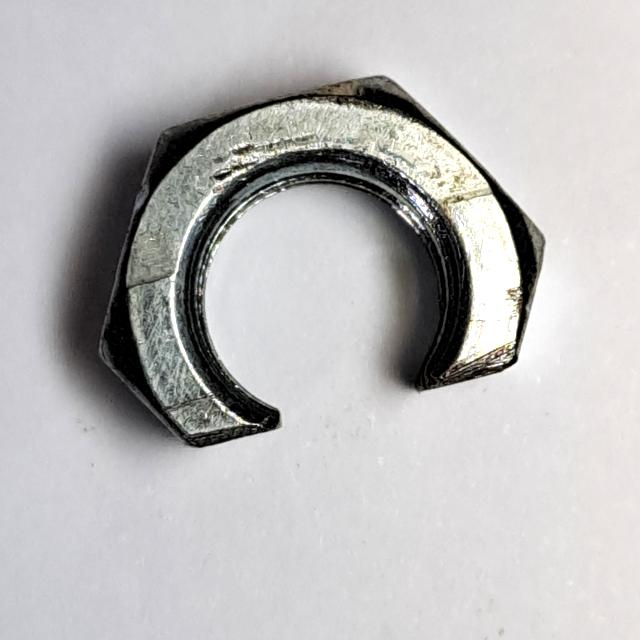Fracture: (87, 62, 555, 471)
